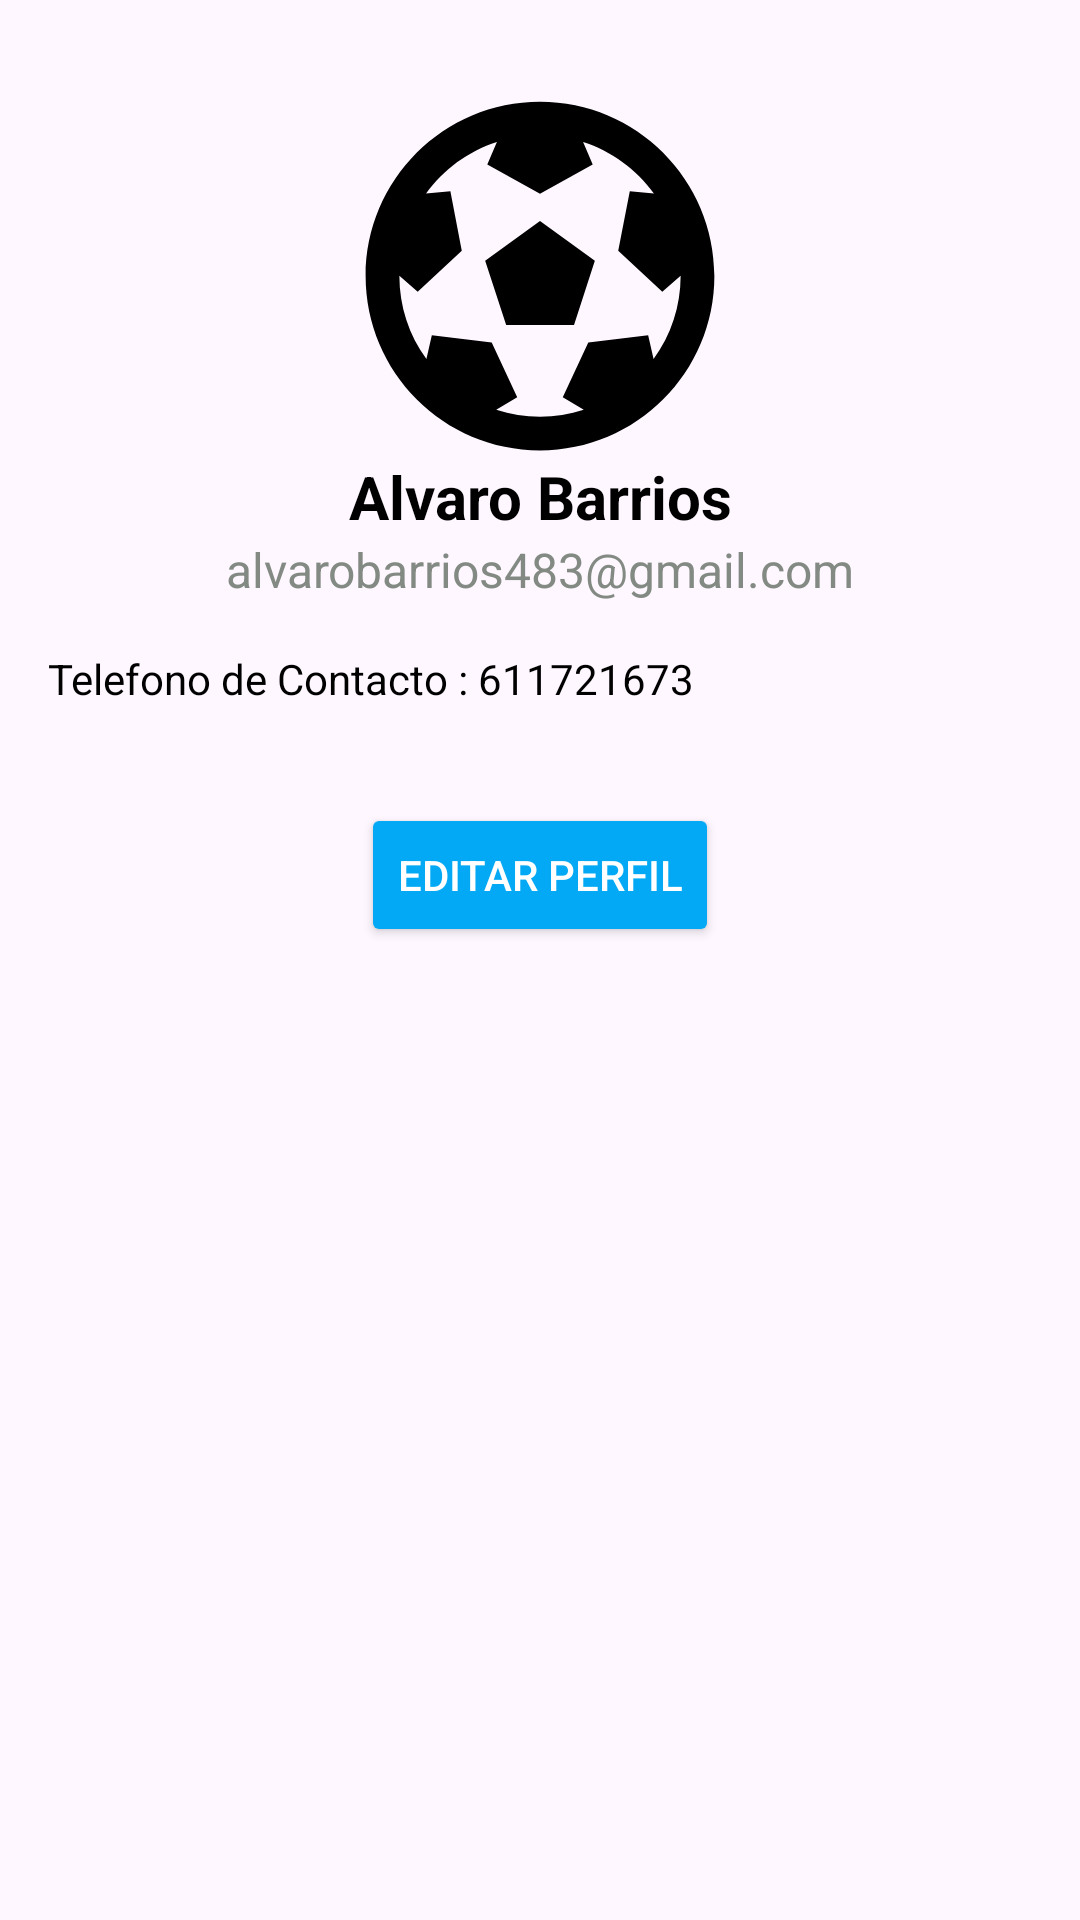

Named icons in this screenshot (1080 x 1920) and their centers, (x=x, y=y):
equipo: (x=540, y=276)
